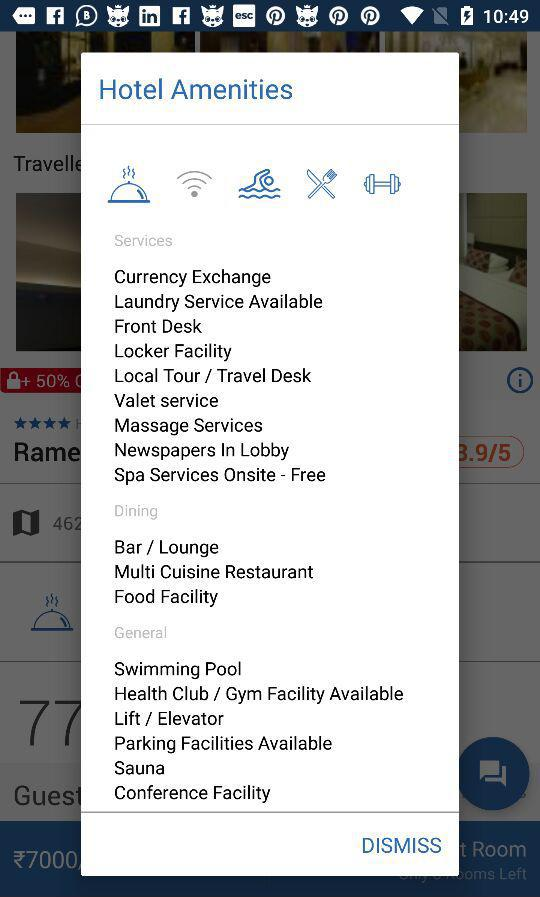Image: (108, 165, 152, 205), (238, 168, 282, 201), (176, 170, 215, 199), (305, 169, 339, 201), (363, 173, 402, 196)
Modal: (81, 53, 460, 877)
Text: (114, 268, 327, 487), (113, 660, 405, 805), (114, 539, 315, 608), (99, 77, 294, 102), (362, 837, 442, 854), (114, 234, 175, 249), (114, 504, 159, 522), (115, 625, 168, 640)
UpperTaskBar: (1, 1, 540, 33)
